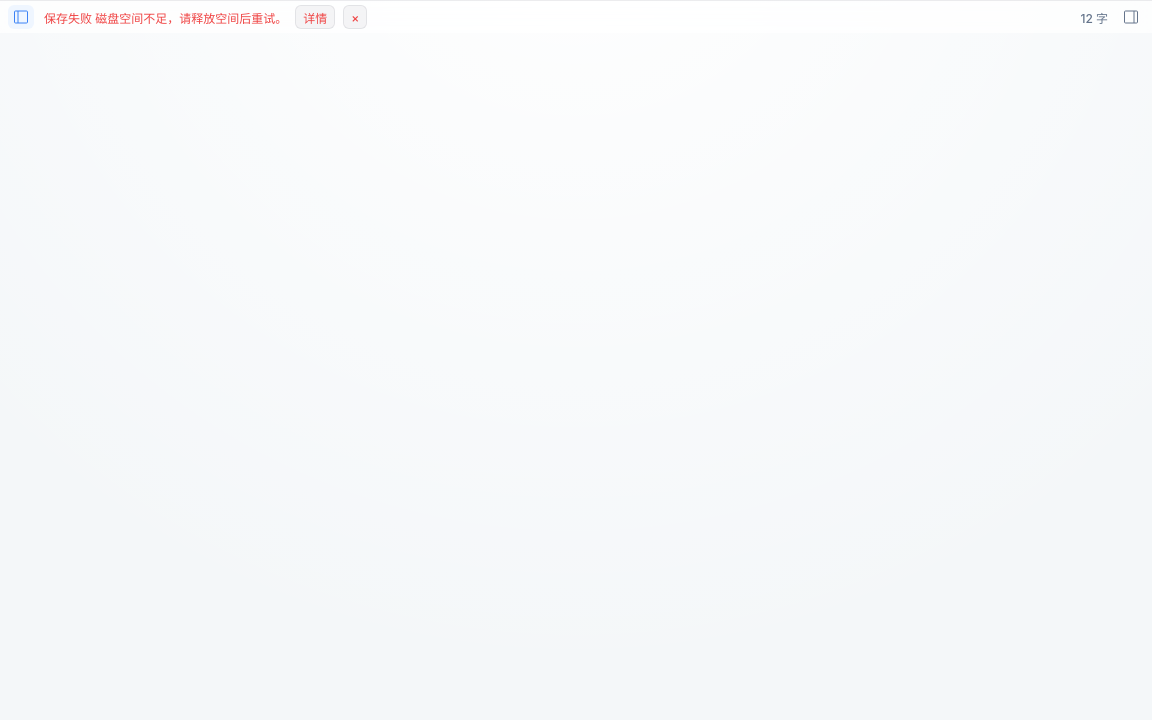
Test case: keeps an error visible, opens full details, and lets the user dismiss it
Expected: the message "保存失败 磁盘空间不足，请释放空间后重试。" is shown, x1=44 y1=8 x2=287 y2=26
Click the button with aria-label "查看提示详情" at (315, 17), box x1=295 y1=5 x2=335 y2=29
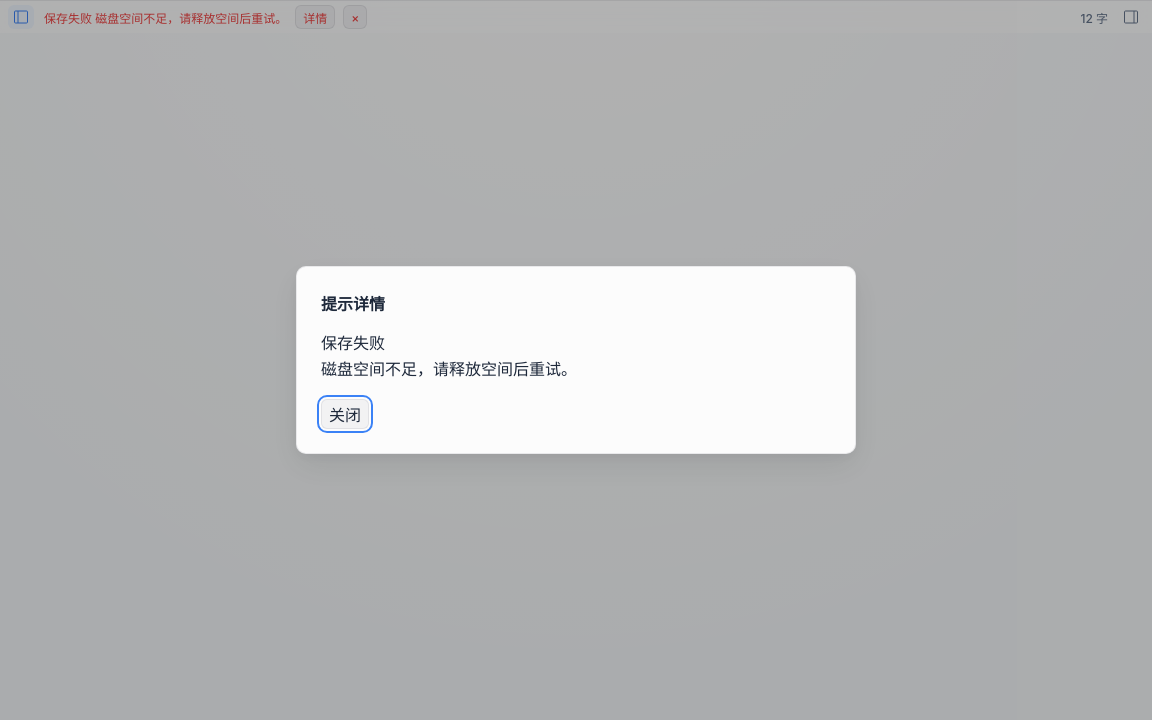
Click the button with aria-label "关闭详情" at (345, 414), box x1=321 y1=399 x2=369 y2=429
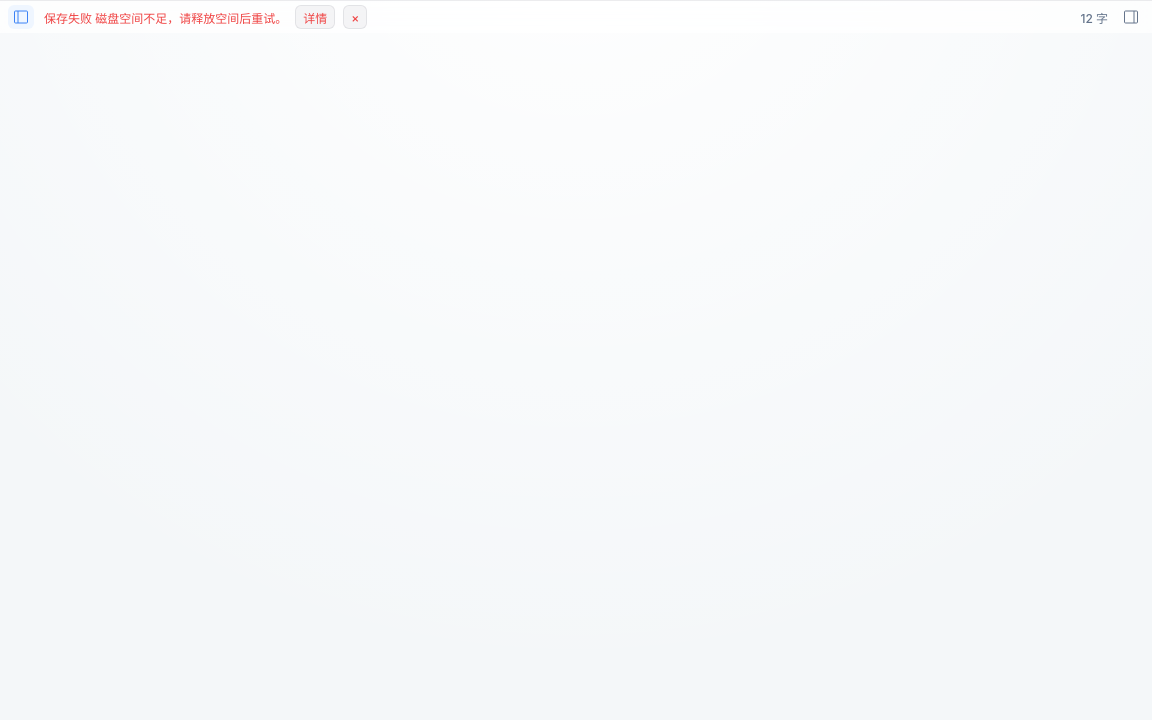
Click the button named "关闭提示" at (355, 17), box x1=343 y1=5 x2=367 y2=29
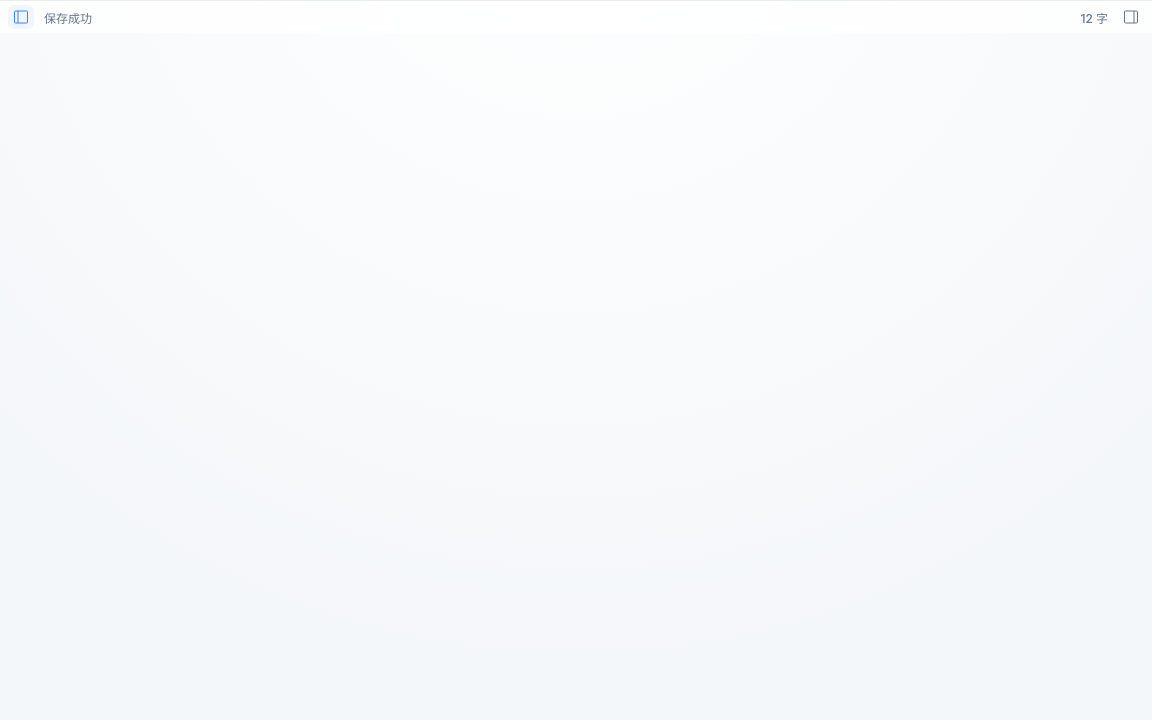
Now the message "保存失败 磁盘空间不足，请释放空间后重试。" no longer shows "磁盘空间不足"
